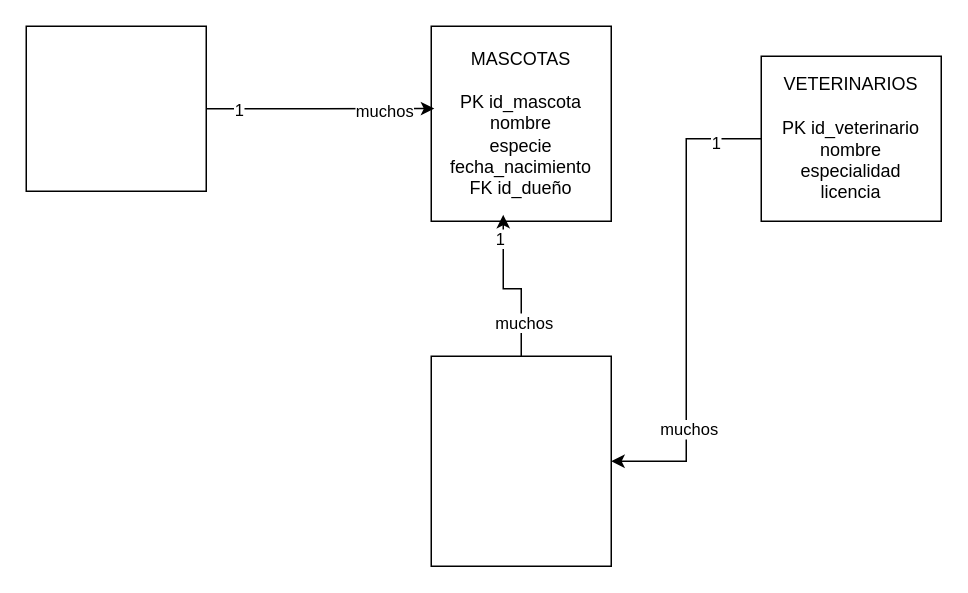
The diagram is 968 pixels wide and 593 high, and some of its shapes have lost their labels. The centre of each missing label's shape, as x and y in pixels:
"CITAS PK id_cita fecha_hora costo diagnostico FK id_mascota FK id_veterinario" belongs at (520,460).
"DUEÑOS PK id_dueno nombre correo telefono" belongs at (115,108).
